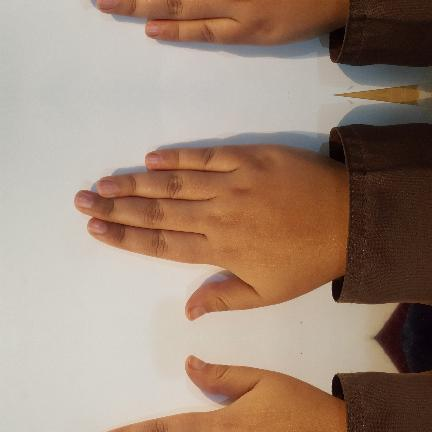Nail: (75, 190, 95, 207), (88, 217, 108, 234), (98, 180, 117, 195), (189, 305, 205, 319), (189, 355, 205, 369), (145, 154, 162, 165), (145, 23, 162, 34), (98, 0, 117, 8)
